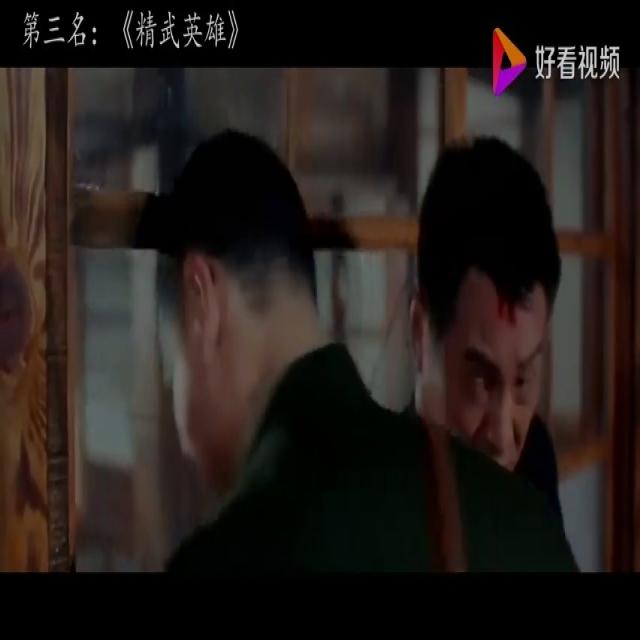fight: (1, 102, 630, 578)
